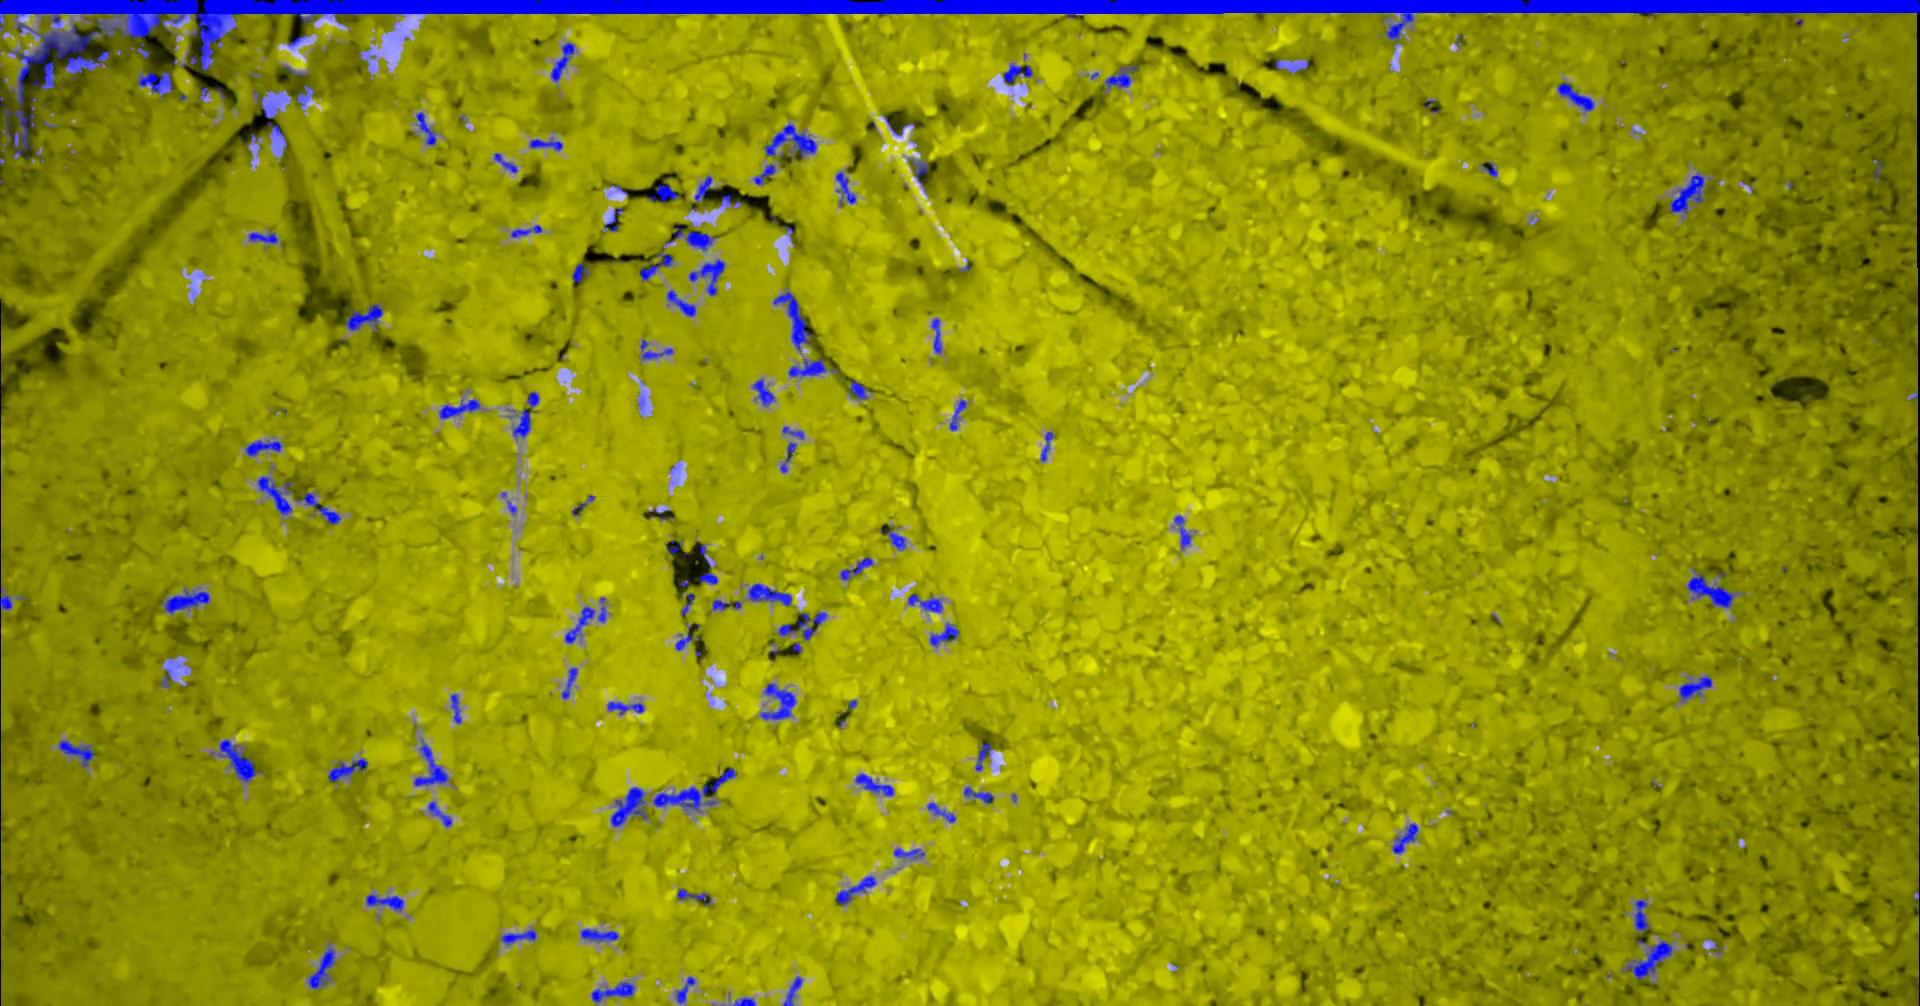ant: (651, 767, 737, 812), (773, 291, 811, 351), (763, 122, 817, 161), (253, 90, 287, 147), (564, 597, 604, 643), (1625, 940, 1672, 979), (1688, 569, 1735, 607), (218, 739, 257, 781), (413, 741, 447, 785), (295, 492, 340, 525), (610, 786, 648, 826), (257, 475, 292, 514), (1669, 174, 1703, 213), (778, 611, 827, 639), (688, 258, 724, 295), (759, 683, 795, 719), (512, 391, 538, 438), (164, 589, 210, 614), (836, 876, 875, 904), (307, 948, 334, 988), (1557, 81, 1594, 111), (344, 304, 382, 332), (550, 41, 574, 81), (639, 250, 672, 279), (747, 583, 791, 605), (58, 739, 93, 766), (590, 981, 632, 1002), (328, 758, 367, 781), (136, 71, 171, 95), (855, 774, 893, 795), (1679, 676, 1710, 701), (665, 290, 695, 316), (438, 399, 479, 418), (1392, 823, 1417, 854), (841, 556, 872, 580), (1105, 65, 1137, 88), (787, 357, 825, 376), (907, 593, 942, 612), (930, 622, 957, 647), (417, 111, 436, 145), (640, 339, 672, 359), (676, 622, 698, 650), (364, 894, 403, 911), (752, 379, 775, 405), (836, 171, 855, 203), (684, 230, 714, 250), (782, 976, 803, 1005), (245, 439, 281, 456), (427, 801, 451, 826), (1002, 64, 1032, 83), (648, 183, 678, 202), (927, 801, 955, 822), (949, 399, 966, 431), (676, 976, 695, 1005), (1175, 514, 1191, 547), (677, 888, 710, 904), (500, 929, 536, 944), (695, 177, 715, 202), (963, 786, 993, 803), (909, 158, 927, 185), (561, 667, 577, 699), (1634, 899, 1650, 931), (580, 929, 618, 941), (780, 442, 795, 473), (493, 152, 517, 171), (607, 701, 643, 714), (753, 164, 775, 184), (604, 207, 622, 231), (510, 224, 541, 238), (975, 742, 990, 770), (888, 525, 904, 550), (530, 138, 563, 150), (848, 379, 867, 398), (931, 318, 941, 353), (296, 84, 312, 105), (1040, 431, 1051, 461), (450, 694, 461, 723), (717, 193, 742, 206), (681, 593, 695, 615), (248, 232, 277, 243), (571, 263, 587, 282), (782, 426, 803, 439), (893, 848, 924, 857), (0, 587, 11, 608), (1481, 161, 1496, 177), (665, 539, 681, 554), (698, 572, 717, 583), (731, 996, 756, 1005), (712, 600, 728, 608)
